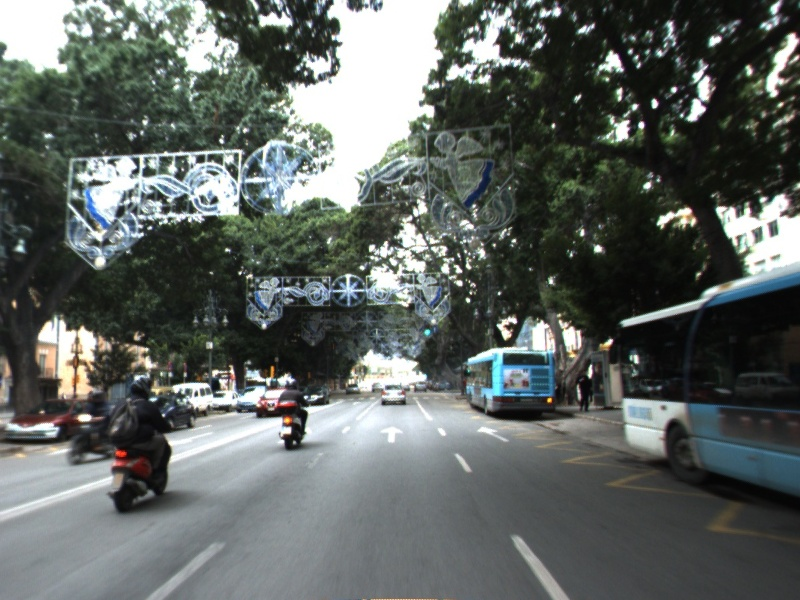STRAIGHT: (475, 424, 513, 444), (378, 424, 406, 444)
